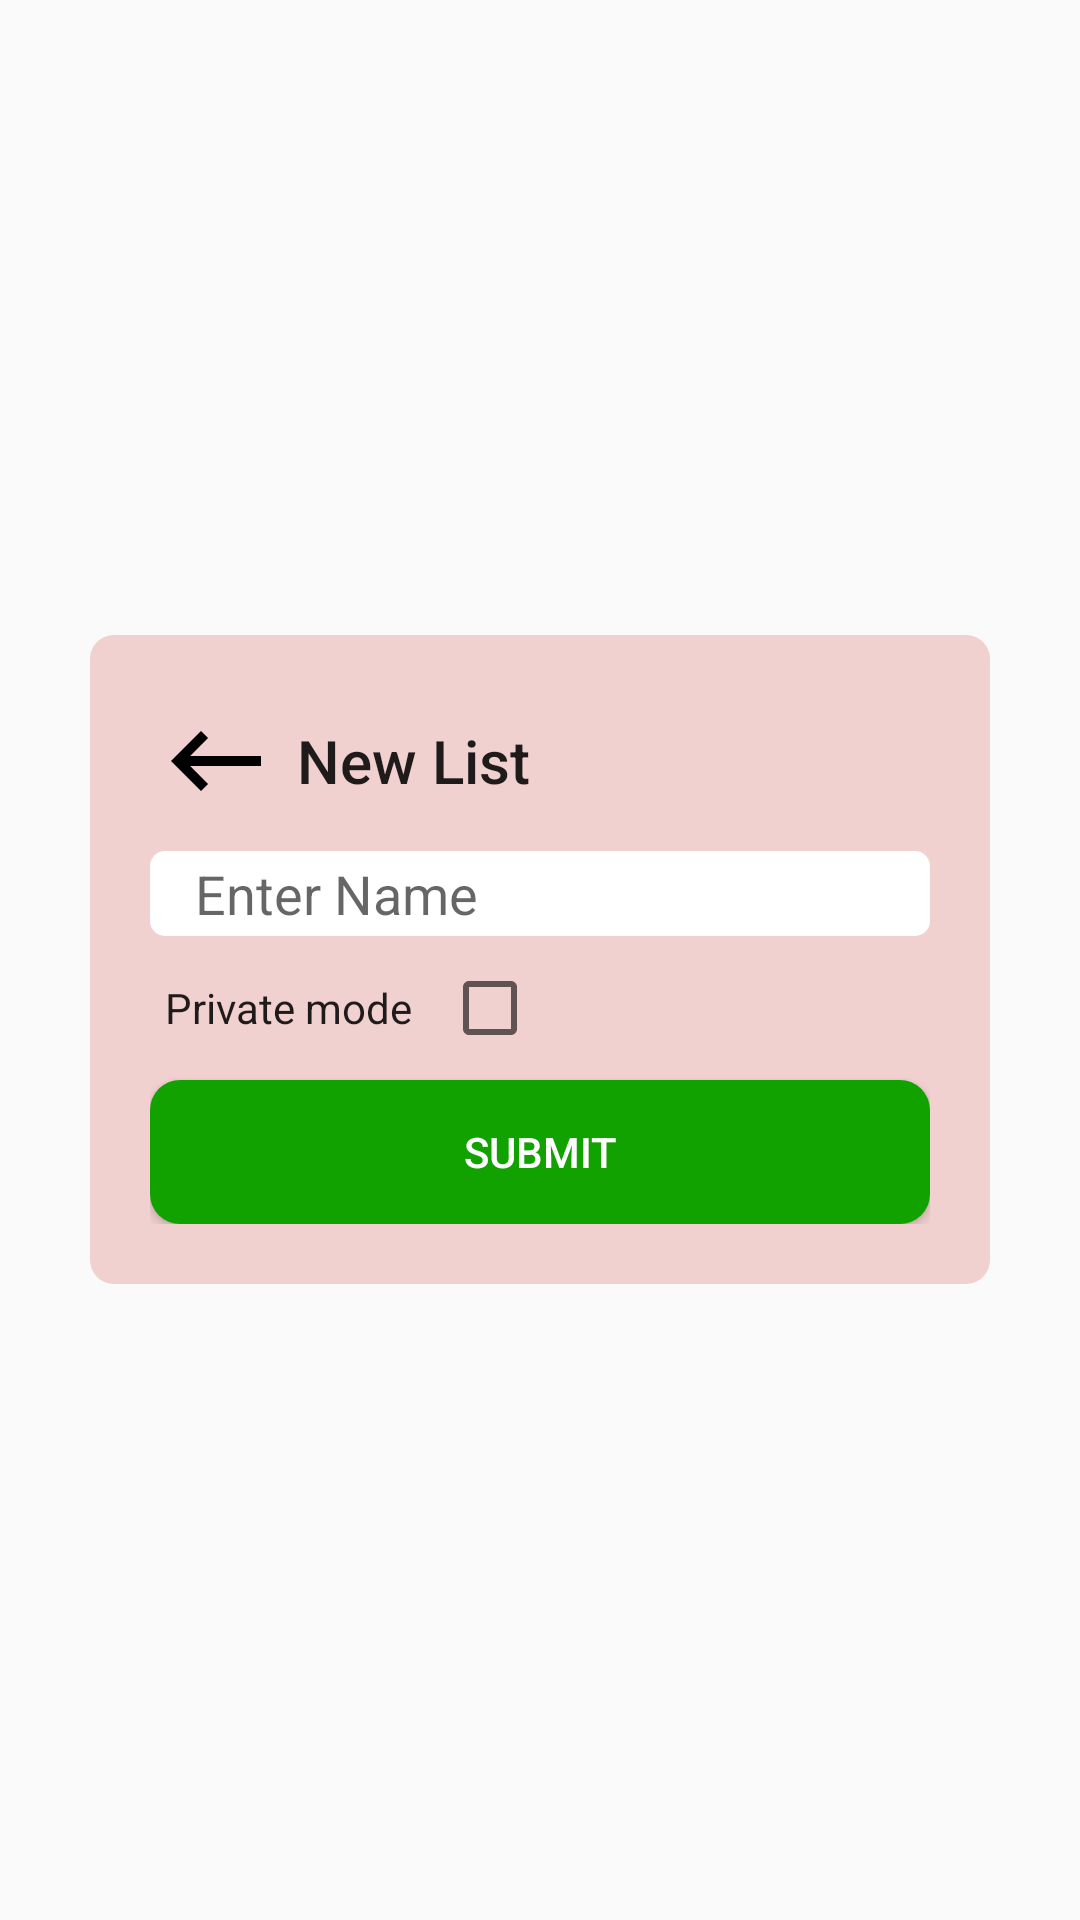

Screen size 1080×1920. Icon name, then its center in pixels as (x=x, y=y):
keyboard backspace: (x=216, y=761)
